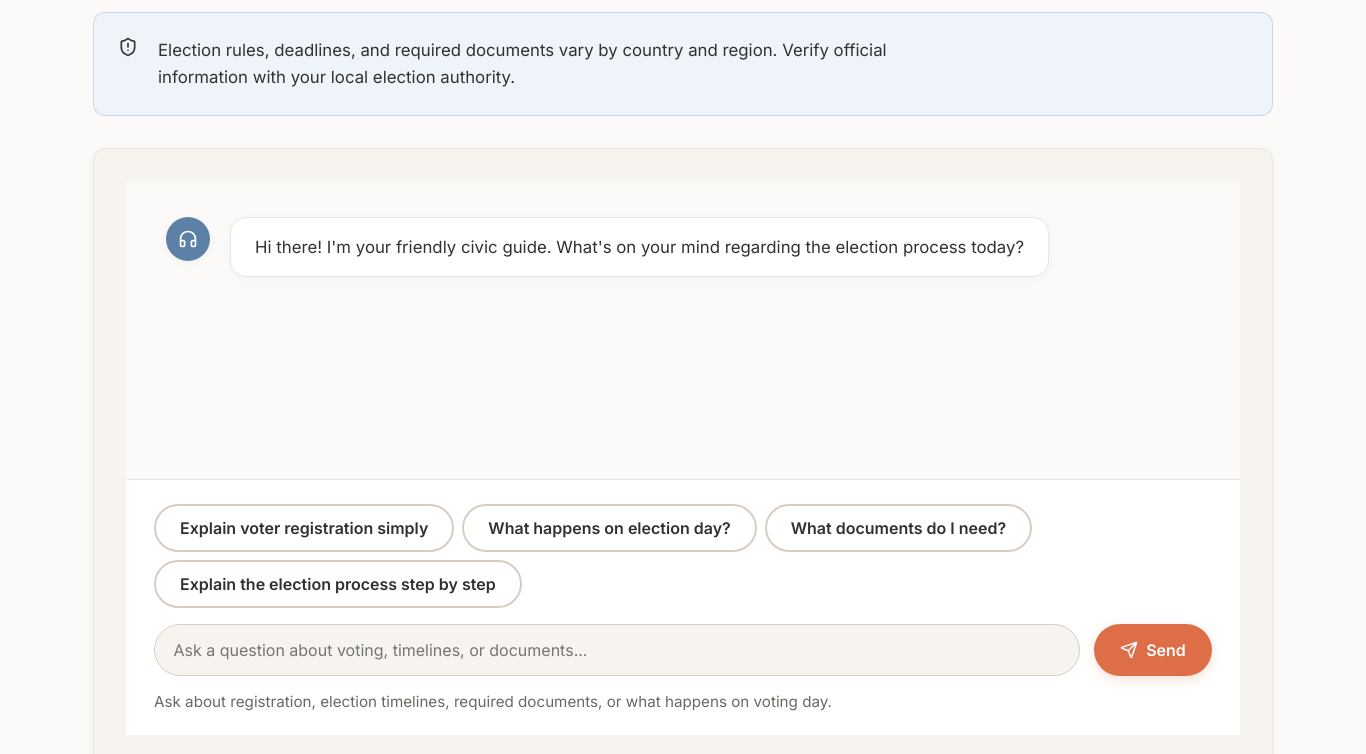
Test: ChatAssistant › falls back locally when Gemini is unavailable
The width and height of the screenshot is (1366, 754).
(page scrolled)
Type "What should I carry to vote?" into the field named "ask the assistant a civic education question" at (617, 650), box [154,624,1080,676]
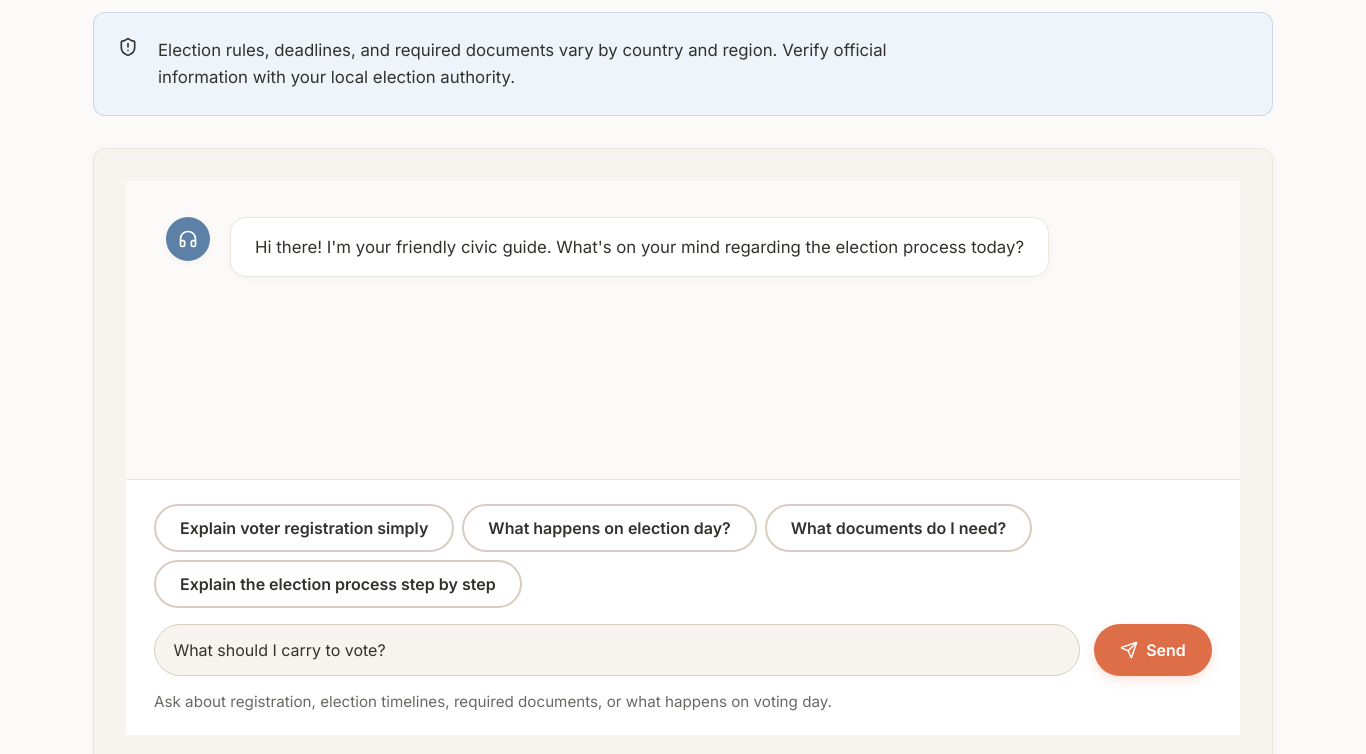
Click the button "Send" at (1153, 650), box [1094,624,1212,676]
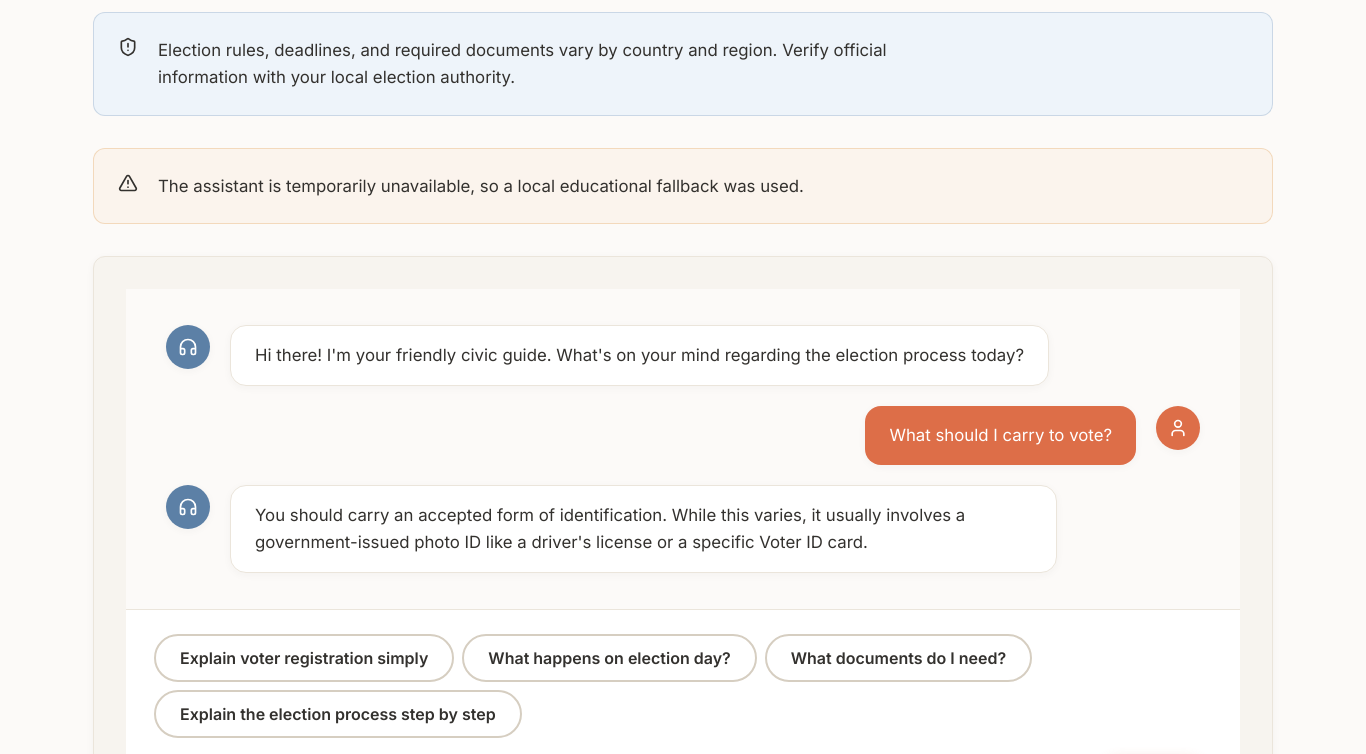
Check: the text "The assistant is temporarily unavailable" is shown, box [158,176,804,196]
Check: the text "accepted form of identification" is shown, box [255,505,965,552]
